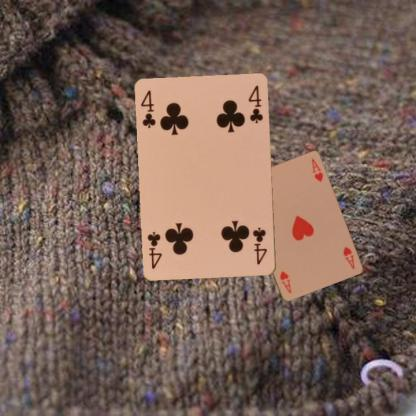4c: (250, 225, 269, 266), (139, 88, 157, 129)
Ah: (341, 244, 356, 270)
